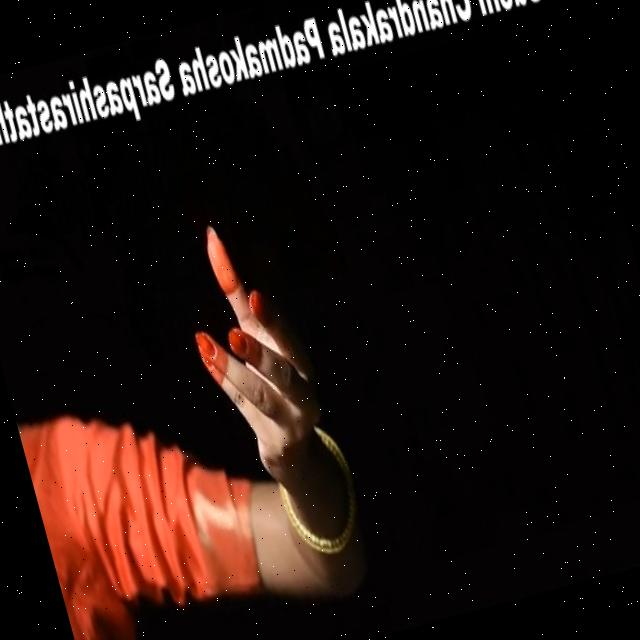Padmakosha: (148, 188, 355, 499)
bangle: (268, 460, 385, 584)
text: (0, 0, 562, 182)
